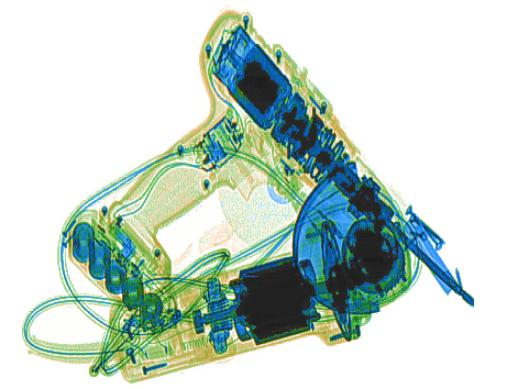battery: (70, 219, 163, 323)
